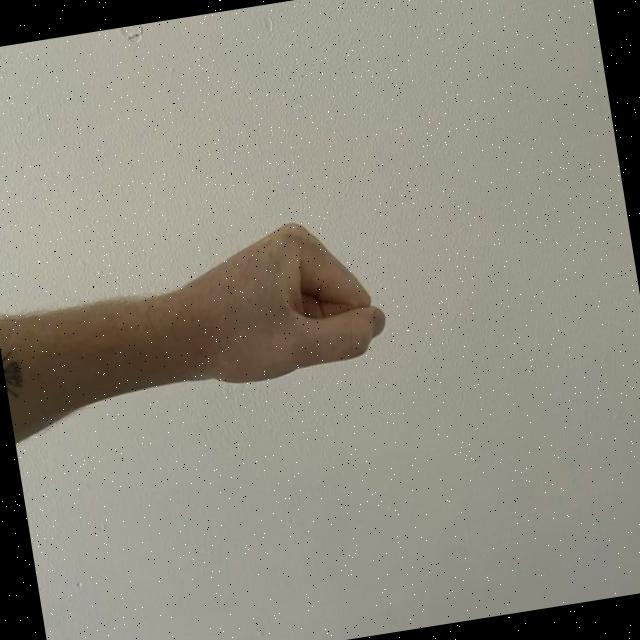rock: (150, 207, 396, 400)
